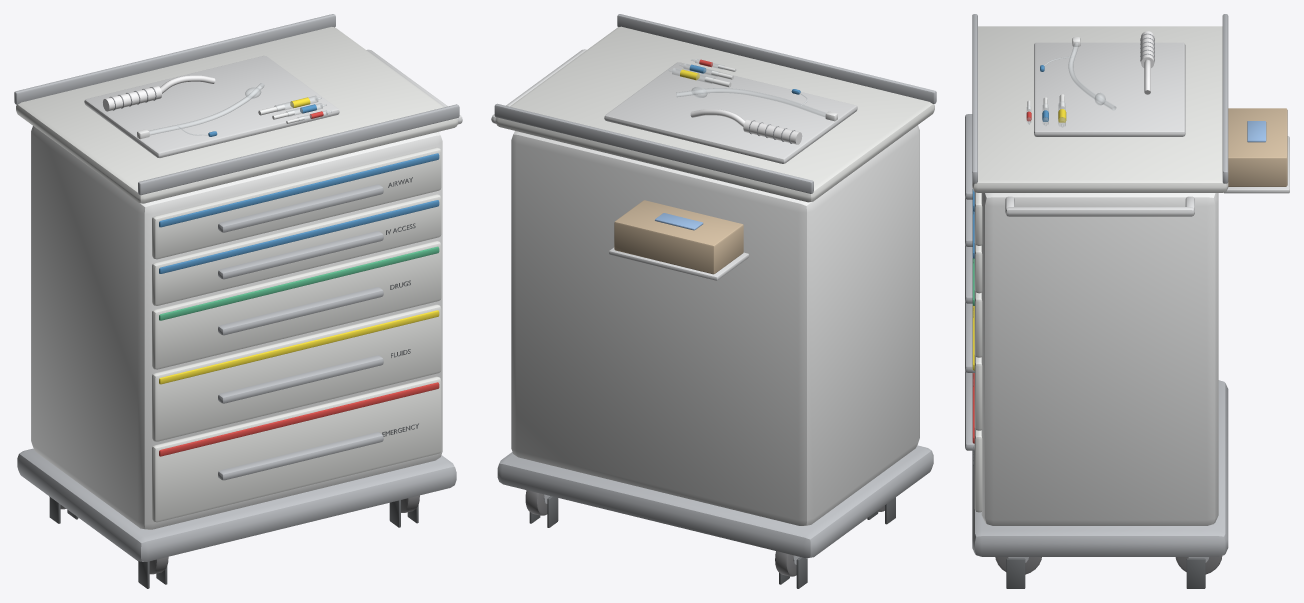
Rendered from AnaestheticTrolley.fbx.
The picture shows the model from 3 angles, left to right: view 1: azimuth 30°, elevation 25°; view 2: azimuth 150°, elevation 25°; view 3: azimuth 270°, elevation 25°; orthographic projection. The views are drawn at different scales.
Parts seen in each view (by area): view 1: AnaestheticTrolley_Mesh; view 2: AnaestheticTrolley_Mesh; view 3: AnaestheticTrolley_Mesh.
Boxes of the visible parts, left/top/right/bottom form: AnaestheticTrolley_Mesh: left=14, top=14, right=462, bottom=588; AnaestheticTrolley_Mesh: left=491, top=14, right=936, bottom=588; AnaestheticTrolley_Mesh: left=965, top=14, right=1289, bottom=588.
Bounding box in the file's own units: 0.84 × 1.03 × 0.685.
